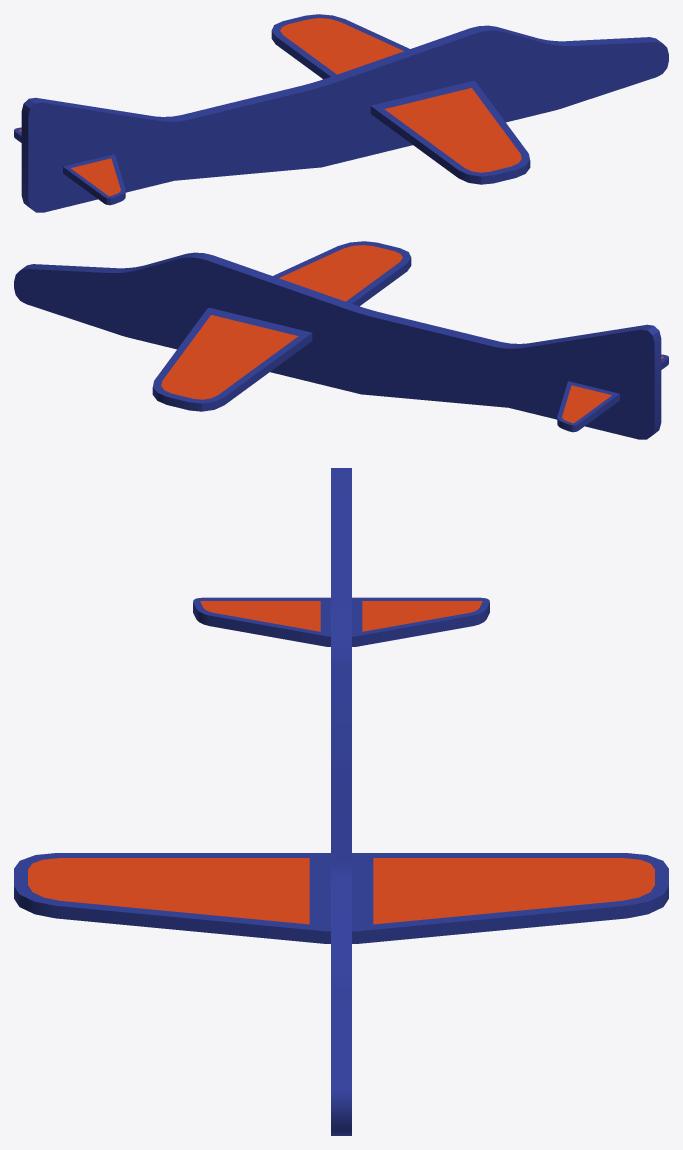
The picture shows the model from 3 angles, top to bottom: view 1: azimuth 30°, elevation 25°; view 2: azimuth 150°, elevation 25°; view 3: azimuth 270°, elevation 25°; orthographic projection. The views are drawn at different scales.
Parts seen in each view (by area): view 1: Plane; view 2: Plane; view 3: Plane.
Boxes of the visible parts, bbox=[...] form: Plane: bbox=[14, 14, 668, 212]; Plane: bbox=[14, 241, 668, 439]; Plane: bbox=[14, 468, 668, 1135].
Bounding box in the file's own units: 39.48 × 7.87 × 22.48.
1 material, 1 textured.
